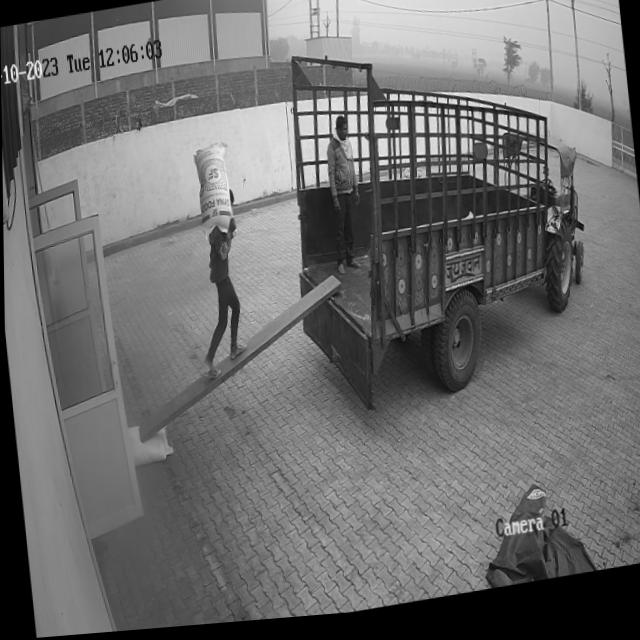sack: (190, 143, 232, 244), (125, 420, 172, 470)
